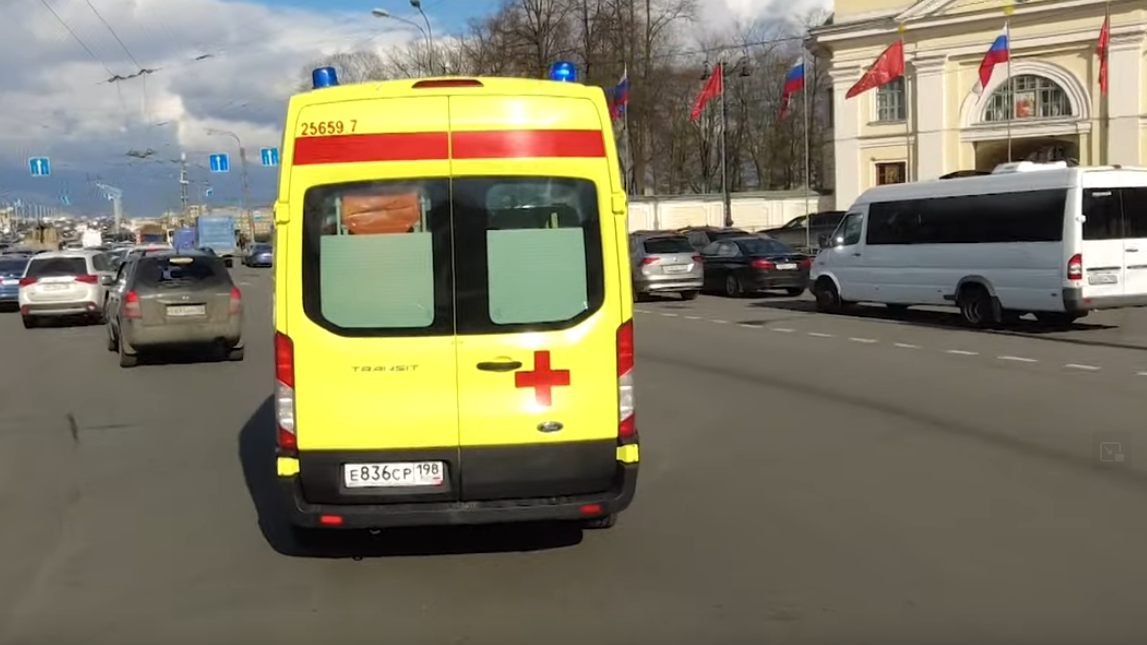intensive care unit: (271, 61, 640, 543)
non emergency car: (807, 164, 1145, 331), (106, 250, 243, 369), (20, 247, 112, 328), (701, 228, 801, 300), (636, 232, 703, 304)
